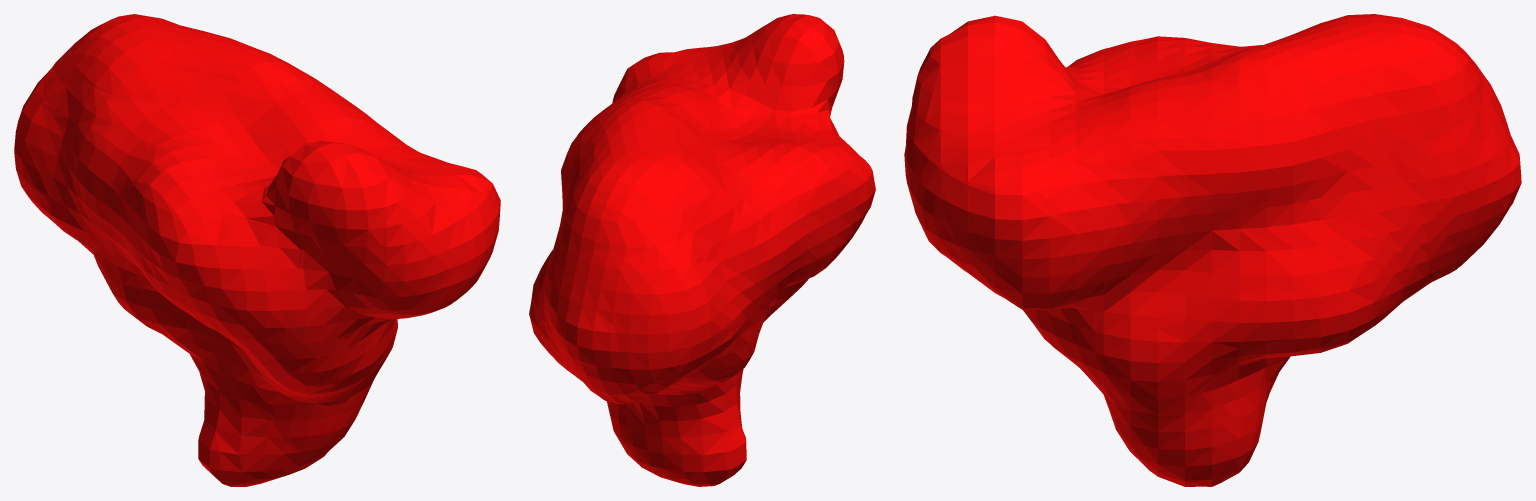
The model's file is yecJ_coarse.dae.
The picture shows the model from 3 angles, left to right: view 1: azimuth 30°, elevation 25°; view 2: azimuth 150°, elevation 25°; view 3: azimuth 270°, elevation 25°; orthographic projection. The views are drawn at different scales.
Visible parts, largest first — view 1: yecJ; view 2: yecJ; view 3: yecJ.
Boxes of the visible parts, left/top/right/bottom form: yecJ: left=14, top=14, right=500, bottom=486; yecJ: left=529, top=14, right=875, bottom=486; yecJ: left=904, top=14, right=1521, bottom=486.
Bounding box in the file's own units: 28.06 × 37.24 × 46.69.
